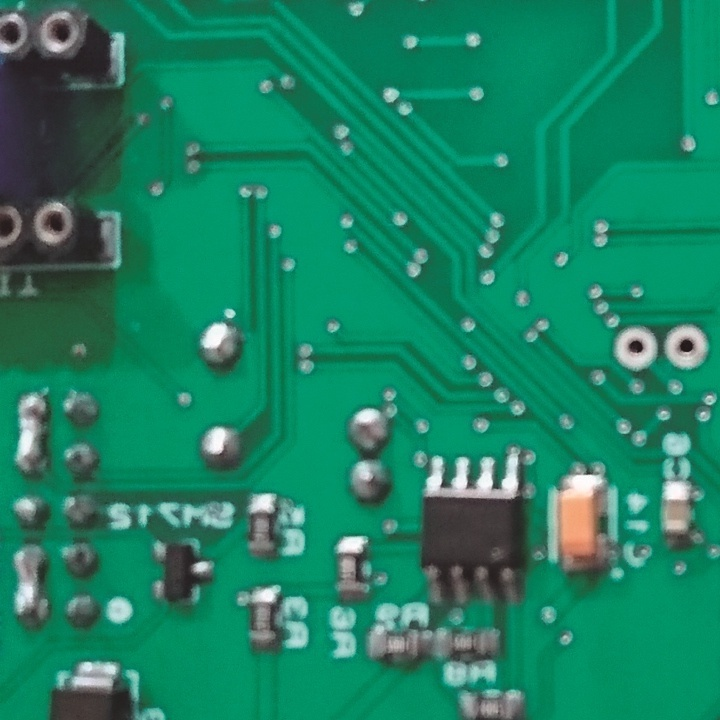F: (661, 323, 710, 375), (613, 324, 658, 371)
P: (10, 542, 47, 626), (12, 393, 47, 477)
